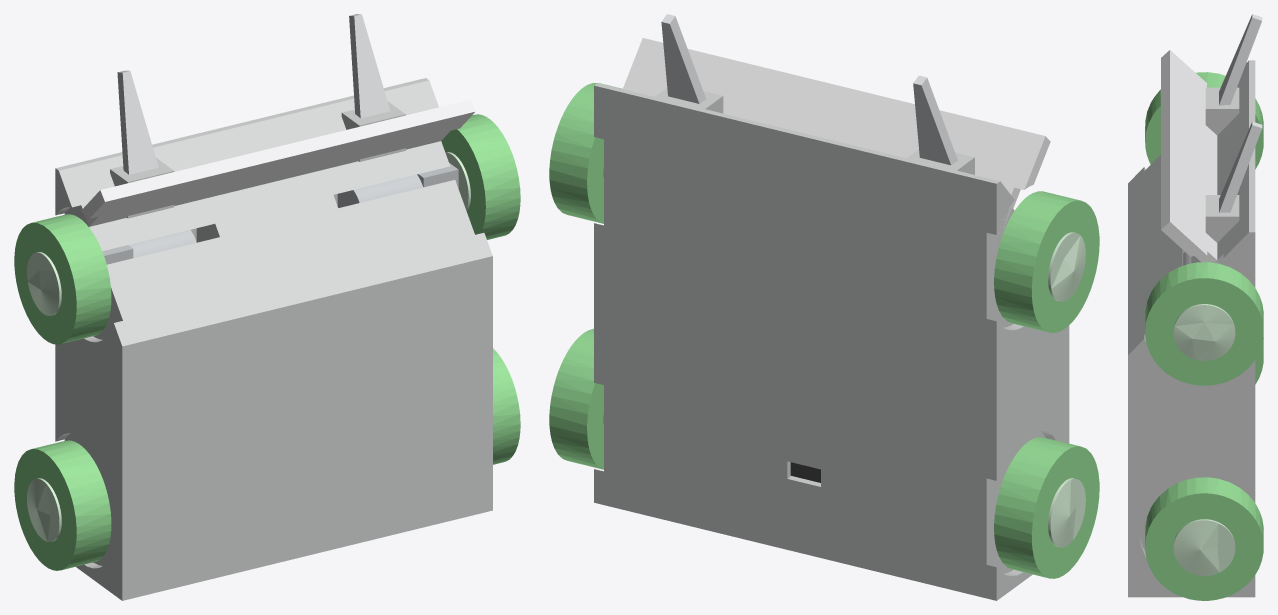
File: speed_demon.glb
3 renders of one model, left to right at view 1: azimuth 30°, elevation 25°; view 2: azimuth 150°, elevation 25°; view 3: azimuth 270°, elevation 25°, orthographic. The views are drawn at different scales.
Parts seen in each view (by area): view 1: chassis, front_plate, wheel_r0, wheel_r1, wheel_l1, fork_0, fork_1, wheel_l0, dm_wheel_l1, dt_hub_wheel_r0, dt_hub_wheel_r1, dm_wheel_r1; view 2: chassis, front_plate, wheel_r0, wheel_r1, wheel_l1, wheel_l0, fork_0, fork_1, dt_hub_wheel_r0, dt_hub_wheel_r1; view 3: chassis, front_plate, wheel_l0, wheel_l1, dt_hub_wheel_l0, dt_hub_wheel_l1, wheel_r1, fork_0, fork_1, wheel_r0.
Part boxes in pixels (left/top/right/bottom): chassis: left=55, top=78, right=492, bottom=600; front_plate: left=81, top=99, right=475, bottom=226; wheel_r0: left=14, top=440, right=111, bottom=570; wheel_r1: left=14, top=214, right=111, bottom=344; wheel_l1: left=441, top=114, right=520, bottom=239; fork_0: left=117, top=70, right=158, bottom=174; fork_1: left=349, top=14, right=390, bottom=118; wheel_l0: left=493, top=348, right=520, bottom=464; dm_wheel_l1: left=337, top=163, right=458, bottom=207; dt_hub_wheel_r0: left=27, top=478, right=61, bottom=541; dt_hub_wheel_r1: left=27, top=252, right=61, bottom=315; dm_wheel_r1: left=102, top=230, right=196, bottom=264; chassis: left=594, top=83, right=1069, bottom=600; front_plate: left=623, top=38, right=1050, bottom=248; wheel_r0: left=994, top=437, right=1099, bottom=578; wheel_r1: left=994, top=191, right=1099, bottom=332; wheel_l1: left=549, top=83, right=622, bottom=223; wheel_l0: left=549, top=328, right=603, bottom=469; fork_0: left=913, top=75, right=957, bottom=165; fork_1: left=661, top=14, right=706, bottom=103; dt_hub_wheel_r0: left=1048, top=478, right=1085, bottom=547; dt_hub_wheel_r1: left=1048, top=232, right=1085, bottom=301; chassis: left=1128, top=60, right=1255, bottom=597; front_plate: left=1161, top=50, right=1219, bottom=263; wheel_l0: left=1145, top=477, right=1263, bottom=600; wheel_l1: left=1145, top=262, right=1263, bottom=385; dt_hub_wheel_l0: left=1173, top=519, right=1235, bottom=576; dt_hub_wheel_l1: left=1173, top=304, right=1235, bottom=360; wheel_r1: left=1145, top=72, right=1263, bottom=169; fork_0: left=1219, top=14, right=1262, bottom=105; fork_1: left=1219, top=121, right=1262, bottom=212; wheel_r0: left=1255, top=338, right=1263, bottom=384.
Size of the model in its own units: 118 by 115 by 32.
